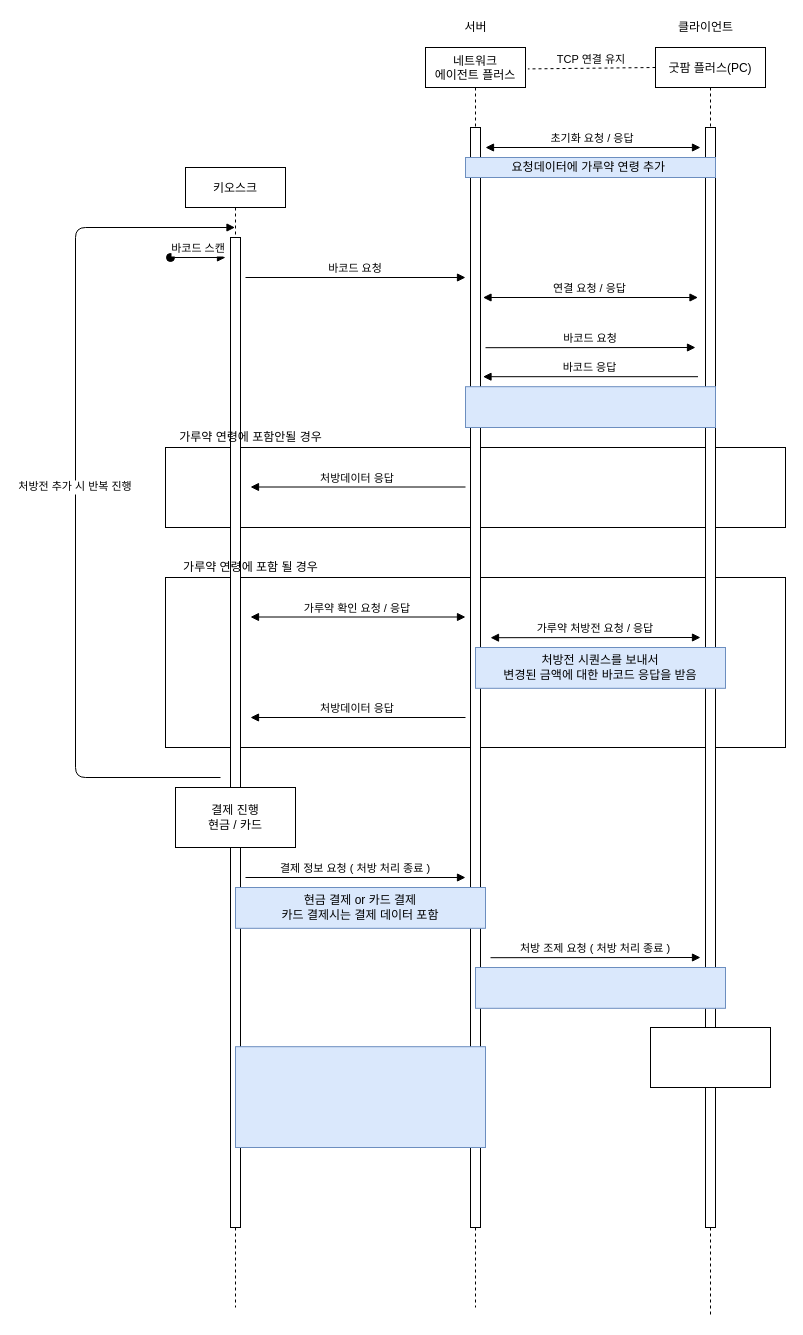
The diagram is 803 pixels wide and 1335 high, and some of its shapes have lost their labels. Here are the shapes that lost their labels. From the top down, the box of each, then its label:
(464, 386, 716, 428): 바코드 응답에 질병코드,병원코드, 병원이름, 의사명 추가
(474, 966, 726, 1008): 처방전 시퀀스 리스트로 요청
(650, 1026, 770, 1088): 자동 처방 진행
(234, 1046, 486, 1148): 기존 굿팜 가입 프로세스 진행 1. 기존 사용자 2. 신규 가입자 3. 여러개 처방전일 경우 처음 처방전으로 진행
